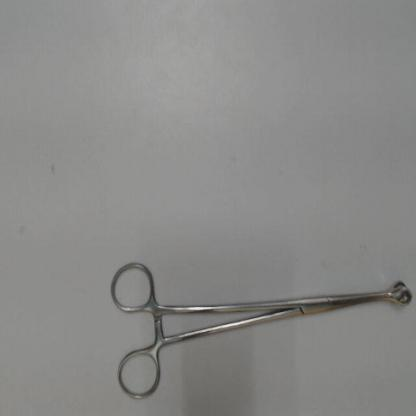8 Babcock Tissue Forceps: (106, 252, 414, 408)
